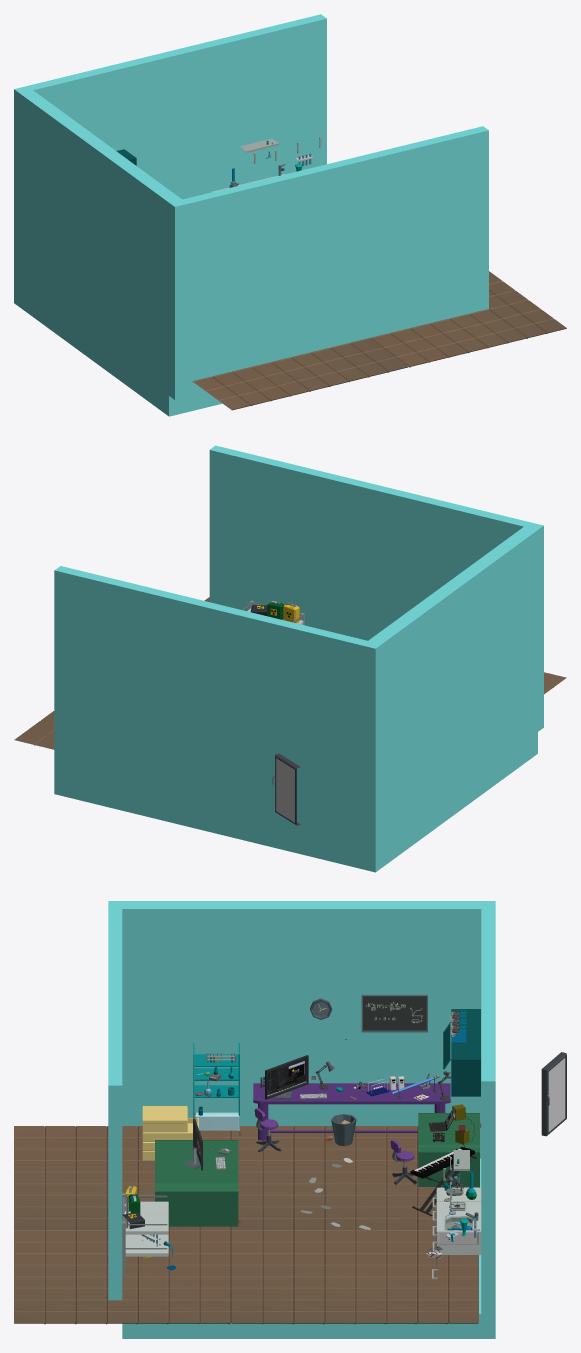
The model's file is laboratorio-sin-main.glb.
3 renders of one model, top to bottom at view 1: azimuth 30°, elevation 25°; view 2: azimuth 150°, elevation 25°; view 3: azimuth 270°, elevation 25°, orthographic. The views are drawn at different scales.
Visible parts, largest first — view 1: floor_and_walls, tile.001; view 2: floor_and_walls, tile.001, door.001; view 3: floor_and_walls, tile.001, table1.001, cane, table1, frame .001, shelf, legs1, cane2, bottom_shelf1, PC, bottom_shelf2 (+5 smaller).
Boxes of the visible parts, bbox=[...] form: floor_and_walls: bbox=[14, 14, 488, 416]; tile.001: bbox=[192, 271, 566, 410]; floor_and_walls: bbox=[54, 445, 543, 872]; tile.001: bbox=[14, 597, 566, 749]; door.001: bbox=[276, 758, 294, 822]; floor_and_walls: bbox=[108, 901, 495, 1338]; tile.001: bbox=[14, 1126, 478, 1324]; table1.001: bbox=[155, 1140, 238, 1226]; cane: bbox=[253, 1083, 450, 1140]; table1: bbox=[418, 1113, 479, 1187]; frame .001: bbox=[361, 994, 427, 1032]; shelf: bbox=[443, 1009, 480, 1096]; legs1: bbox=[193, 1043, 241, 1136]; cane2: bbox=[122, 1193, 168, 1277]; bottom_shelf1: bbox=[142, 1106, 198, 1160]; PC: bbox=[265, 1055, 308, 1099]; bottom_shelf2: bbox=[436, 1215, 481, 1269].
Size of what is drawn, in the model's own units: 3.81 by 2.21 by 4.3.
Materials: 37 (6 with a texture image).
